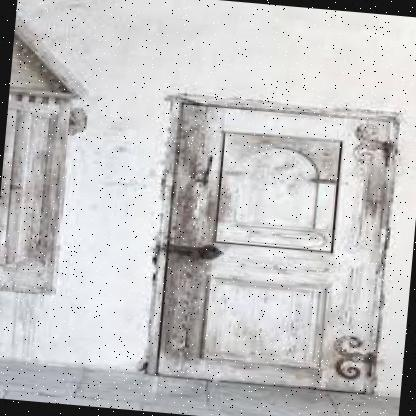door: (135, 84, 408, 409)
